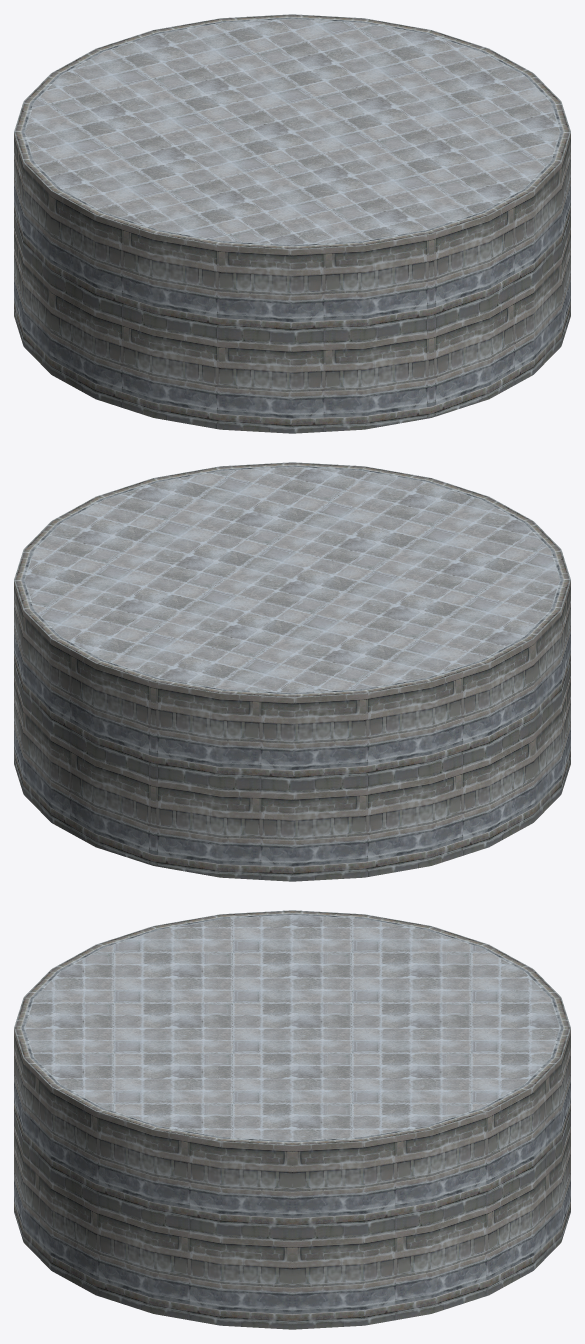
File: jz_jitai_0201.FBX
The picture shows the model from 3 angles, top to bottom: view 1: azimuth 30°, elevation 25°; view 2: azimuth 150°, elevation 25°; view 3: azimuth 270°, elevation 25°; orthographic projection.
Parts seen in each view (by area): view 1: jz_jitai_0201; view 2: jz_jitai_0201; view 3: jz_jitai_0201.
Boxes of the visible parts, box(x1,y1,x2,y2) form: jz_jitai_0201: box(14, 14, 570, 433); jz_jitai_0201: box(14, 462, 570, 881); jz_jitai_0201: box(14, 910, 570, 1329).
Bounding box in the file's own units: 1356 × 494 × 1356.
